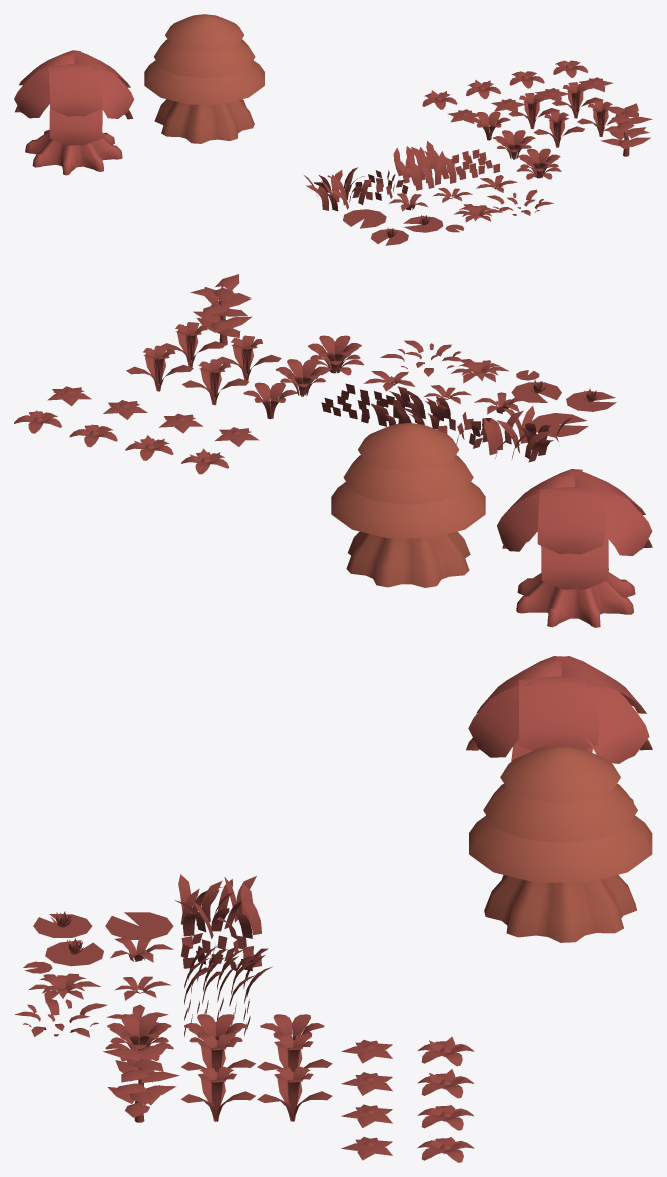
File: worldObjectsDoubleSided.fbx
3 renders of one model, top to bottom at view 1: azimuth 30°, elevation 25°; view 2: azimuth 150°, elevation 25°; view 3: azimuth 270°, elevation 25°, orthographic. The views are drawn at different scales.
Parts seen in each view (by area): view 1: tree1, tree2, grass2, plant5, grass8, plant3, grass2.e, plant2, flower10, flower11, nenuphar1, flower9 (+11 smaller); view 2: tree1, tree2, plant5, grass8, grass2, plant3, plant2, grass2.e, flower9, flower11, flower12, flower10 (+12 smaller); view 3: tree1, tree2, grass8, plant5, plant3, grass2, nenuphar3, flower12, flower11, nenuphar1, grass8.e, flower9 (+11 smaller).
Boxes of the visible parts, x1,y1,x2,y2 form: tree1: [144, 14, 264, 143]; tree2: [14, 50, 134, 175]; grass2: [393, 141, 456, 190]; plant5: [600, 103, 652, 156]; grass8: [304, 167, 371, 211]; plant3: [516, 148, 561, 179]; grass2.e: [445, 149, 499, 179]; plant2: [493, 130, 535, 159]; flower10: [533, 111, 584, 147]; flower11: [552, 82, 603, 118]; nenuphar1: [343, 209, 386, 228]; flower9: [508, 92, 559, 128]; tree1: [331, 423, 485, 587]; tree2: [497, 469, 652, 627]; plant5: [190, 274, 252, 345]; grass8: [484, 406, 572, 462]; grass2: [371, 386, 450, 429]; plant3: [308, 335, 363, 375]; plant2: [275, 359, 329, 396]; grass2.e: [321, 383, 394, 423]; flower9: [182, 359, 249, 405]; flower11: [126, 345, 193, 391]; flower12: [161, 322, 225, 367]; flower10: [217, 335, 281, 380]; tree1: [469, 745, 652, 942]; tree2: [466, 656, 652, 803]; grass8: [175, 874, 261, 939]; plant5: [103, 1044, 179, 1122]; plant3: [105, 1014, 173, 1061]; grass2: [184, 946, 272, 1006]; nenuphar3: [23, 938, 103, 973]; flower12: [181, 1066, 255, 1121]; flower11: [257, 1066, 332, 1121]; nenuphar1: [105, 912, 173, 939]; grass8.e: [181, 933, 261, 971]; flower9: [257, 1034, 332, 1072].
Size of the model in its own units: 12.03 by 2.34 by 8.35.
